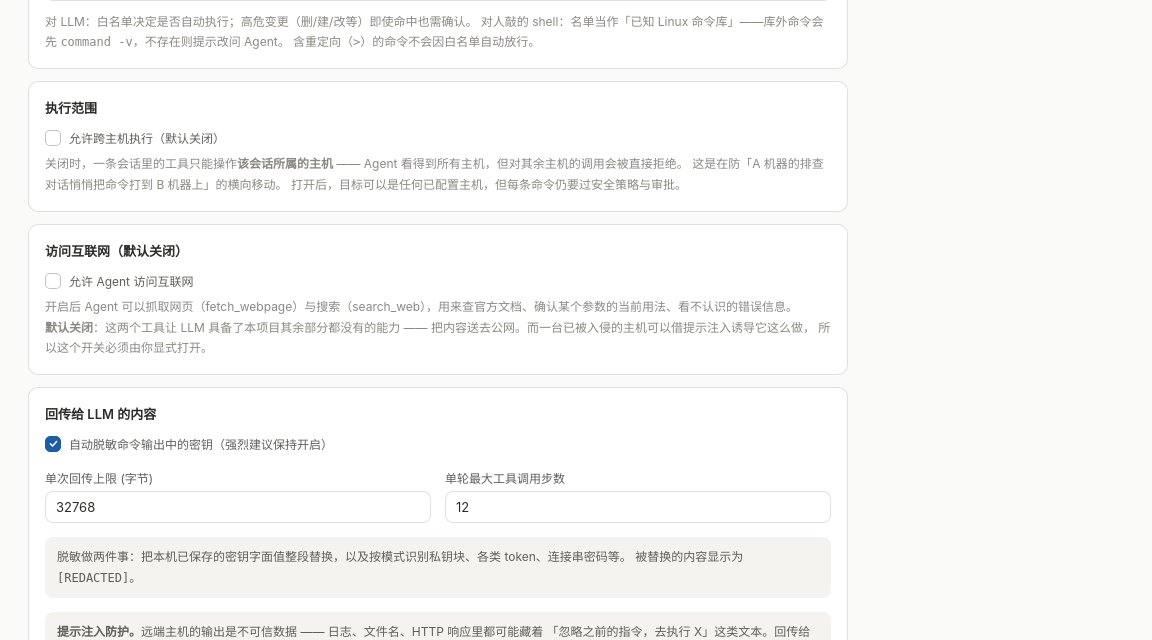
Test case: PolicyPanel 访问互联网 › 勾选后才出现搜索服务下拉
(page scrolled)
Click the checkbox with class "allow-web" at (53, 281), box left=45, top=273, right=61, bottom=289
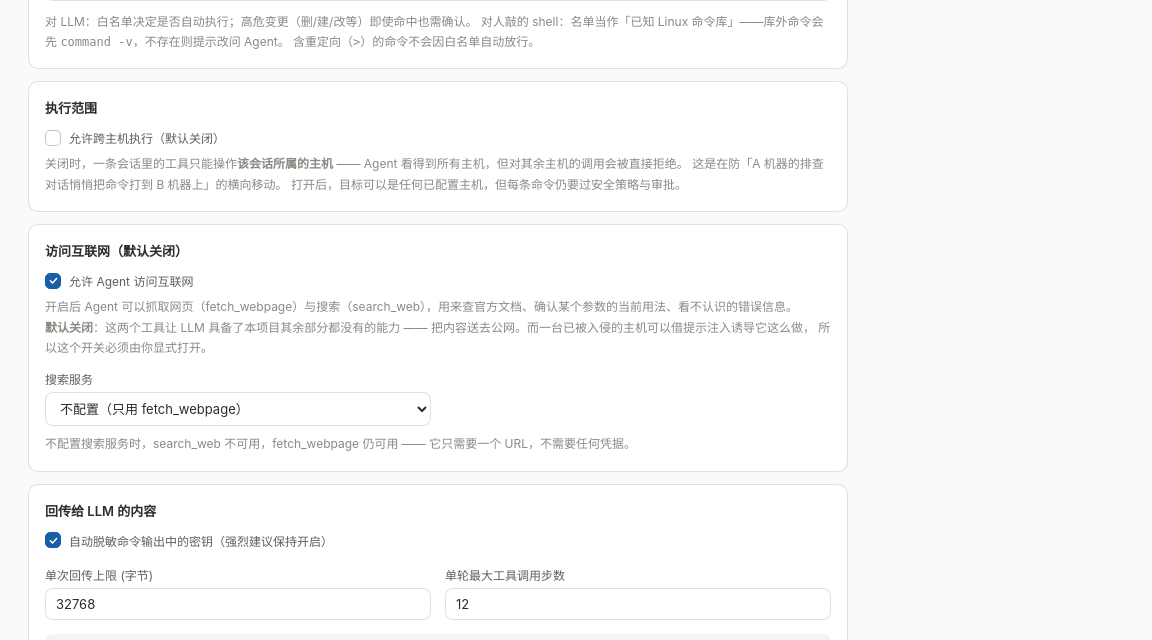
Expected: the dropdown is shown, left=45, top=392, right=431, bottom=426
